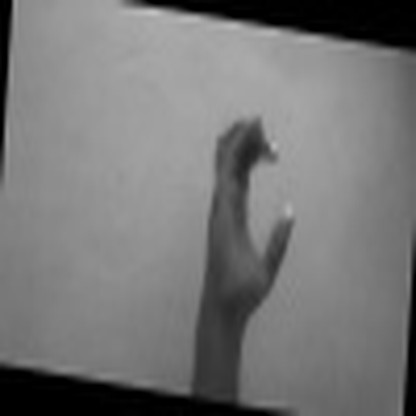c: (199, 106, 300, 304)
